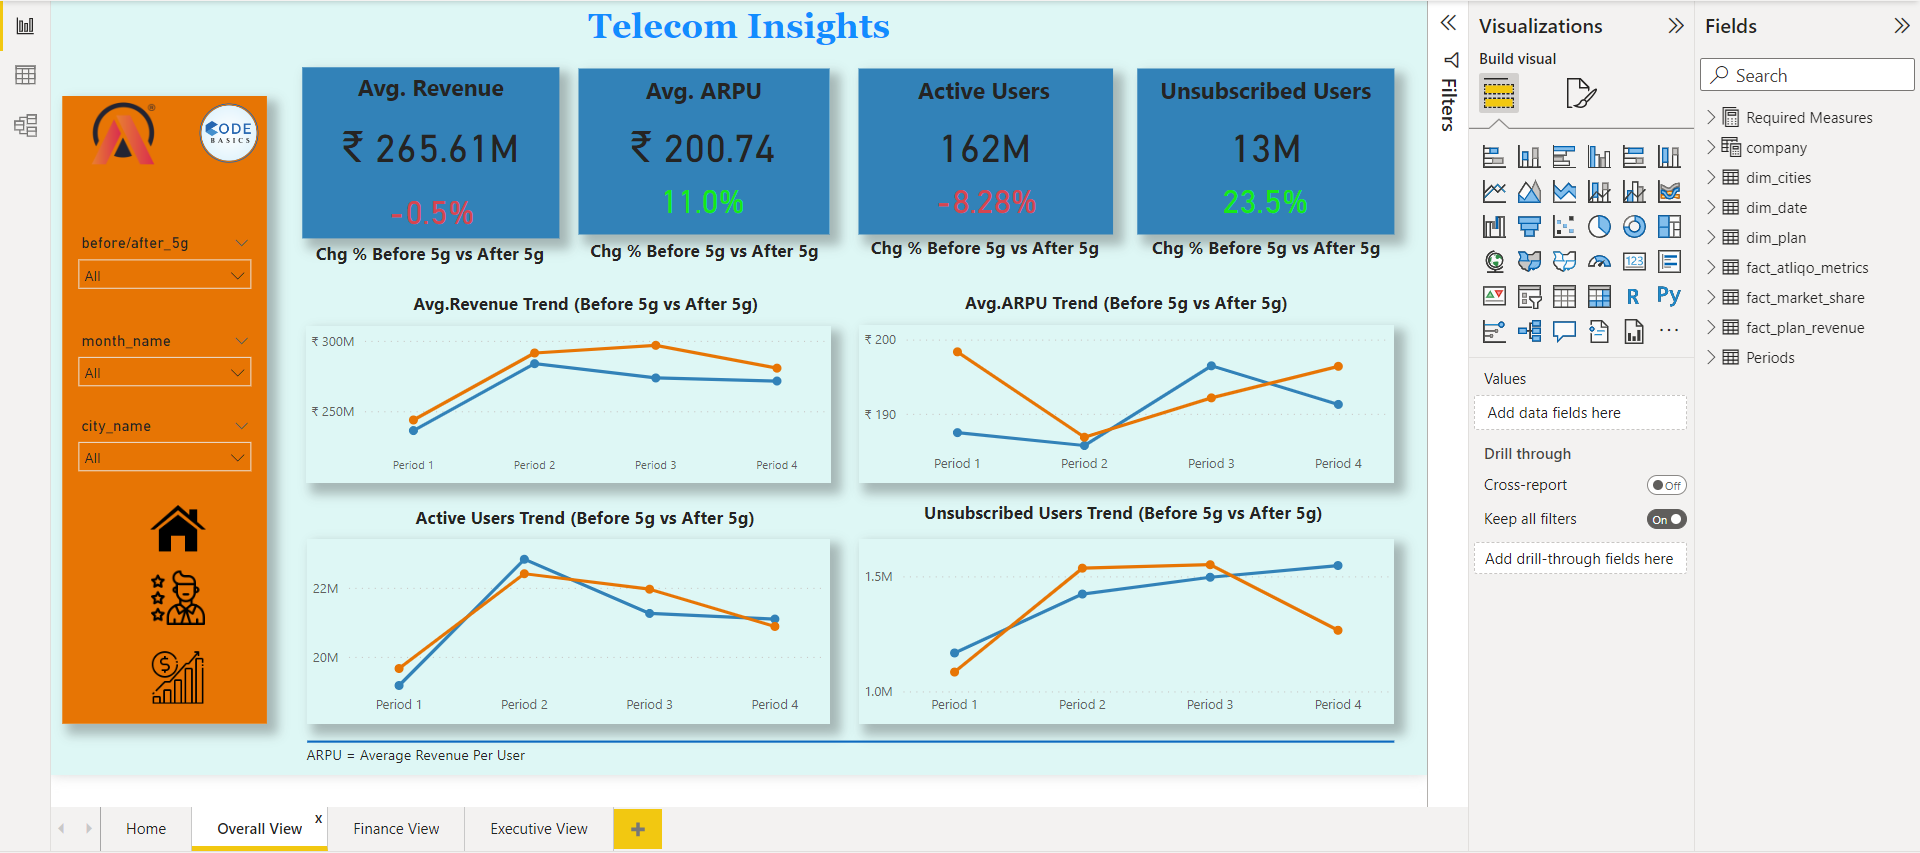

What the dashboard file says about the page in this screenshot:
{"tool":"powerbi","page":{"name":"Overall View","canvas":[1280,720],"ordinal":1},"visuals":[{"type":"shape","box":[233.3,61.7,239.2,159.5],"z":0},{"type":"shape","box":[10.7,88.1,190.4,584.3],"z":0},{"type":"shape","box":[491.3,63.3,233.3,154.7],"z":1000,"group":"g1"},{"type":"slicer","fields":{"Values":["dim_date.month_name"]},"box":[15.5,302.3,180.9,69],"z":1000},{"type":"shape","box":[750.8,63.3,236.8,154.7],"z":2000,"group":"g2"},{"type":"slicer","fields":{"Values":["dim_cities.city_name"]},"box":[15.5,380.8,180.9,78.5],"z":2000},{"type":"shape","box":[1010.2,63.3,239.2,154.7],"z":3000,"group":"g3"},{"type":"slicer","fields":{"Values":["dim_date.before/after_5g"]},"box":[15.5,211.8,180.9,72.6],"z":3000},{"type":"image","box":[27.4,88.1,79.7,69],"z":4000},{"type":"image","box":[126.1,88.1,79.7,69],"z":5000},{"type":"card","title":"Av","fields":{"Values":["Required Measures.Average Revenue"]},"box":[232,95.6,240.4,77.4],"z":5000},{"type":"card","fields":{"Values":["Required Measures.Avg arpu"]},"box":[490.1,94.2,233.3,79.7],"z":6000,"group":"g1"},{"type":"lineChart","fields":{"Y":["Required Measures.Avg Revnue Before 5g"],"Y2":["Required Measures.Avg Revenue After 5g"],"Category":["Periods.Periods"]},"box":[236.8,302.3,487.9,146.4],"z":6000},{"type":"card","fields":{"Values":["Required Measures.Total Active Users"]},"box":[748.4,94.2,239.2,79.7],"z":7000,"group":"g2"},{"type":"lineChart","fields":{"Y":["Required Measures.Avg arpu Before 5g"],"Y2":["Required Measures.Avg arpu After 5g"],"Category":["Periods.Periods"]},"box":[750.9,301.1,498.6,147.6],"z":7000},{"type":"card","fields":{"Values":["Required Measures.Total Unsubscribed Users"]},"box":[1010.2,94.2,239.2,79.7],"z":8000,"group":"g3"},{"type":"lineChart","fields":{"Y":["Required Measures.Active users Before 5g"],"Y2":["Required Measures.Active users After 5g"],"Category":["Periods.Periods"]},"box":[238,499.8,486.7,172.6],"z":8000},{"type":"card","fields":{"Values":["Required Measures.ARCHNG pct"]},"box":[233.2,162,239.2,65.5],"z":9000},{"type":"lineChart","fields":{"Y":["Required Measures.Unsubcribed users Before 5g"],"Y2":["Required Measures.Unsubcribed users After 5g"],"Category":["Periods.Periods"]},"box":[750.9,499.8,498.6,172.6],"z":9000},{"type":"card","fields":{"Values":["Required Measures.A arpu CHNG pct"]},"box":[490.1,151.4,233.3,66.6],"z":10000,"group":"g1"},{"type":"textbox","box":[277.3,265.4,441.5,35.7],"z":10000},{"type":"card","fields":{"Values":["Required Measures.Active users CHNG pct"]},"box":[750.8,151.4,236.8,66.6],"z":11000,"group":"g2"},{"type":"textbox","box":[750.9,264.2,498.6,35.7],"z":11000},{"type":"card","fields":{"Values":["Required Measures.Unsubscribed users CHNG pct"]},"box":[1010.2,151.4,238,66.6],"z":12000,"group":"g3"},{"type":"textbox","box":[777.1,459.4,441.5,35.7],"z":12000},{"type":"textbox","box":[1010.2,63.3,239.2,47.6],"z":13000,"group":"g3"},{"type":"textbox","box":[276.1,464.1,442.7,35.7],"z":13000},{"type":"textbox","box":[747.2,63.3,240.4,47.6],"z":14000,"group":"g2"},{"type":"group","id":"g1","title":"Group 2","box":[490.1,63.3,234.4,154.7],"z":15000},{"type":"textbox","box":[491.3,63.3,233.3,47.6],"z":15000,"group":"g1"},{"type":"textbox","box":[233.2,60.3,239.2,46.4],"z":16000},{"type":"group","id":"g2","title":"Group 3","box":[747.2,63.3,240.4,154.7],"z":16000},{"type":"group","id":"g3","title":"Group 4","box":[1010.2,63.3,239.2,154.7],"z":17000},{"type":"shape","box":[238,658.1,1011.6,61.9],"z":18000},{"type":"textbox","box":[232.1,686.7,233.3,33.3],"z":19000},{"type":"textbox","box":[0,0,1280.5,51.2],"z":20000},{"type":"image","box":[82.1,599.8,71.4,58.3],"z":21000},{"type":"image","box":[82.1,523.6,71.4,63.1],"z":22000},{"type":"image","box":[82.1,461.8,71.4,61.9],"z":23000},{"type":"card","fields":{"Values":["Required Measures.%Chng Message"]},"box":[232.1,221.4,240.4,33.3],"z":23001},{"type":"card","fields":{"Values":["Required Measures.%Chng Message"]},"box":[491.5,217.8,232.1,33.3],"z":23002},{"type":"card","fields":{"Values":["Required Measures.%Chng Message"]},"box":[748.6,215.4,240.4,33.3],"z":23003},{"type":"card","fields":{"Values":["Required Measures.%Chng Message"]},"box":[1010.4,215.4,240.4,33.3],"z":23004}]}

Visuals, with their boxes on the page's 1280x720 design canvas (x1, y1, x2, y2). These are canvas units, not pixel positions in the 1920x853 screenshot, which may show the page scaled, cropped or inside an application window:
shape: detection(233, 62, 472, 221)
shape: detection(11, 88, 201, 672)
shape: detection(491, 63, 725, 218)
slicer - dim_date.month_name: detection(16, 302, 196, 371)
shape: detection(751, 63, 988, 218)
slicer - dim_cities.city_name: detection(16, 381, 196, 459)
shape: detection(1010, 63, 1249, 218)
slicer - dim_date.before/after_5g: detection(16, 212, 196, 284)
image: detection(27, 88, 107, 157)
image: detection(126, 88, 206, 157)
"Av" card: detection(232, 96, 472, 173)
card - Required Measures.Avg arpu: detection(490, 94, 723, 174)
lineChart - Required Measures.Avg Revnue Before 5g x Required Measures.Avg Revenue After 5g: detection(237, 302, 725, 449)
card - Required Measures.Total Active Users: detection(748, 94, 988, 174)
lineChart - Required Measures.Avg arpu Before 5g x Required Measures.Avg arpu After 5g: detection(751, 301, 1250, 449)
card - Required Measures.Total Unsubscribed Users: detection(1010, 94, 1249, 174)
lineChart - Required Measures.Active users Before 5g x Required Measures.Active users After 5g: detection(238, 500, 725, 672)
card - Required Measures.ARCHNG pct: detection(233, 162, 472, 228)
lineChart - Required Measures.Unsubcribed users Before 5g x Required Measures.Unsubcribed users After 5g: detection(751, 500, 1250, 672)
card - Required Measures.A arpu CHNG pct: detection(490, 151, 723, 218)
textbox: detection(277, 265, 719, 301)
card - Required Measures.Active users CHNG pct: detection(751, 151, 988, 218)
textbox: detection(751, 264, 1250, 300)
card - Required Measures.Unsubscribed users CHNG pct: detection(1010, 151, 1248, 218)
textbox: detection(777, 459, 1219, 495)
textbox: detection(1010, 63, 1249, 111)
textbox: detection(276, 464, 719, 500)
textbox: detection(747, 63, 988, 111)
"Group 2" group: detection(490, 63, 724, 218)
textbox: detection(491, 63, 725, 111)
textbox: detection(233, 60, 472, 107)
"Group 3" group: detection(747, 63, 988, 218)
"Group 4" group: detection(1010, 63, 1249, 218)
shape: detection(238, 658, 1250, 720)
textbox: detection(232, 687, 465, 720)
textbox: detection(0, 0, 1280, 51)
image: detection(82, 600, 154, 658)
image: detection(82, 524, 154, 587)
image: detection(82, 462, 154, 524)
card - Required Measures.%Chng Message: detection(232, 221, 472, 255)
card - Required Measures.%Chng Message: detection(492, 218, 724, 251)
card - Required Measures.%Chng Message: detection(749, 215, 989, 249)
card - Required Measures.%Chng Message: detection(1010, 215, 1251, 249)
